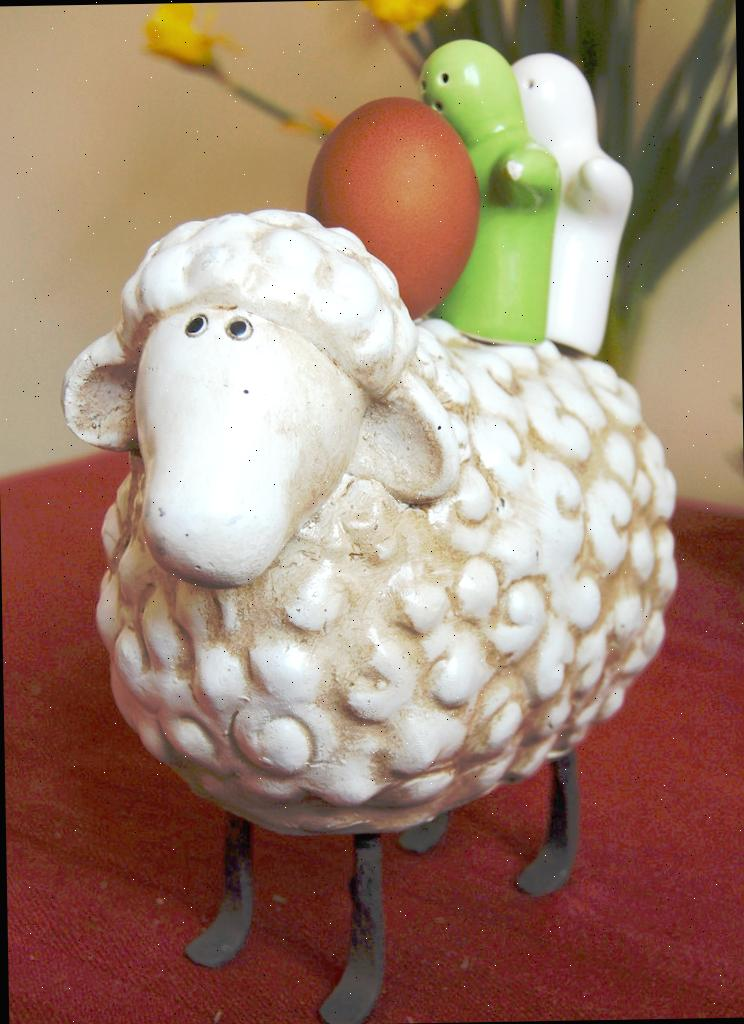Sheep: (51, 192, 688, 1024)
